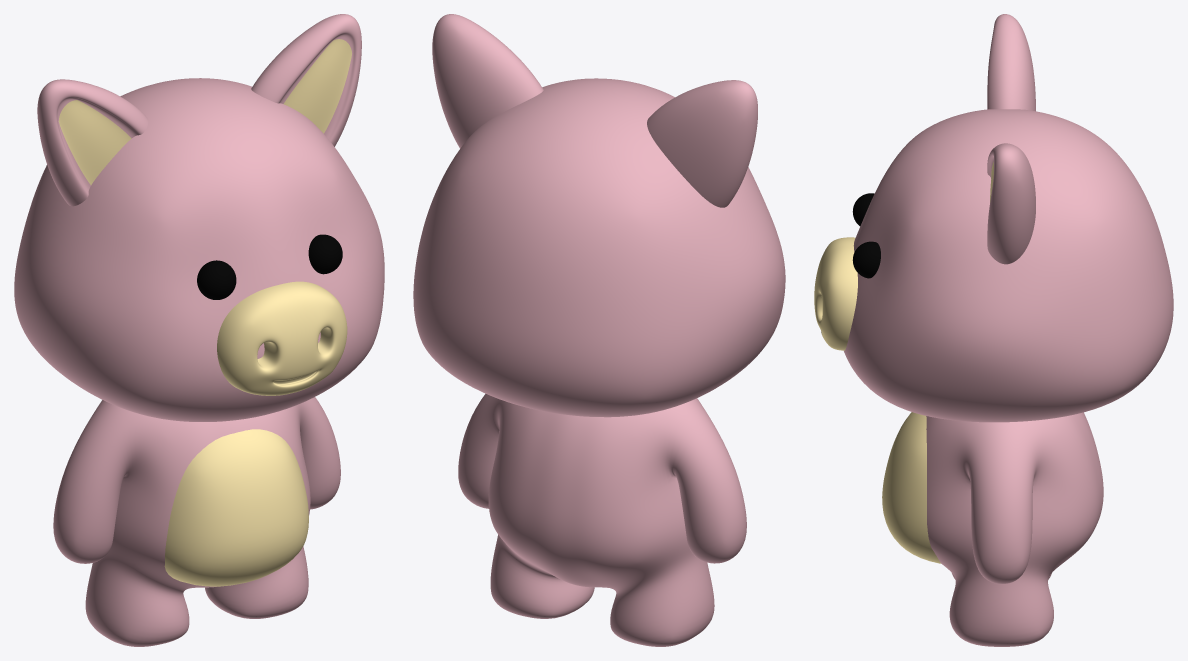
Rendered from Pig_3d.glb.
The picture shows the model from 3 angles, left to right: view 1: azimuth 30°, elevation 25°; view 2: azimuth 150°, elevation 25°; view 3: azimuth 270°, elevation 25°; orthographic projection. The views are drawn at different scales.
Visible parts, largest first — view 1: Cube.073, Cube.074, Cube.079, Cube.076, Cube.075, Sphere.021; view 2: Cube.073, Cube.074, Cube.076; view 3: Cube.073, Cube.074, Cube.076, Cube.079, Cube.075, Sphere.021.
Boxes of the visible parts, x1,y1,x2,y2 form: Cube.073: (14, 78, 384, 421); Cube.074: (53, 397, 340, 646); Cube.079: (164, 429, 308, 586); Cube.076: (37, 14, 361, 206); Cube.075: (217, 281, 347, 395); Sphere.021: (197, 234, 342, 299); Cube.073: (413, 78, 785, 417); Cube.074: (458, 393, 746, 646); Cube.076: (432, 14, 757, 207); Cube.073: (844, 109, 1173, 422); Cube.074: (926, 412, 1103, 646); Cube.076: (987, 14, 1035, 264); Cube.079: (882, 412, 940, 563); Cube.075: (814, 237, 857, 350); Sphere.021: (852, 193, 880, 278).
Bounding box in the file's own units: 3.53 × 5.93 × 3.64.
